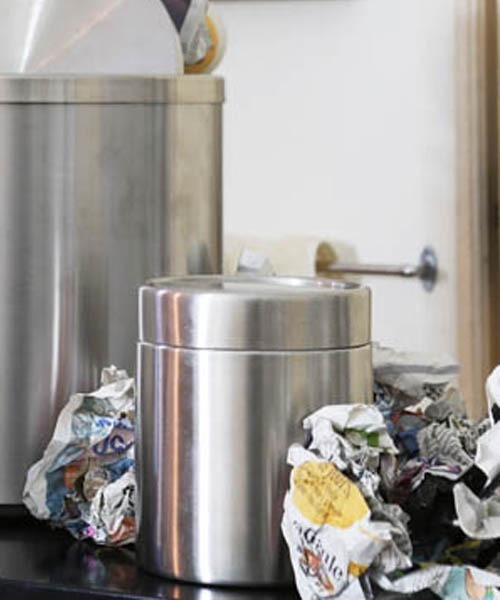bin_empty: (0, 75, 223, 509), (136, 274, 370, 585)
normal_waste: (373, 347, 499, 566), (281, 404, 410, 599), (23, 366, 134, 545)
